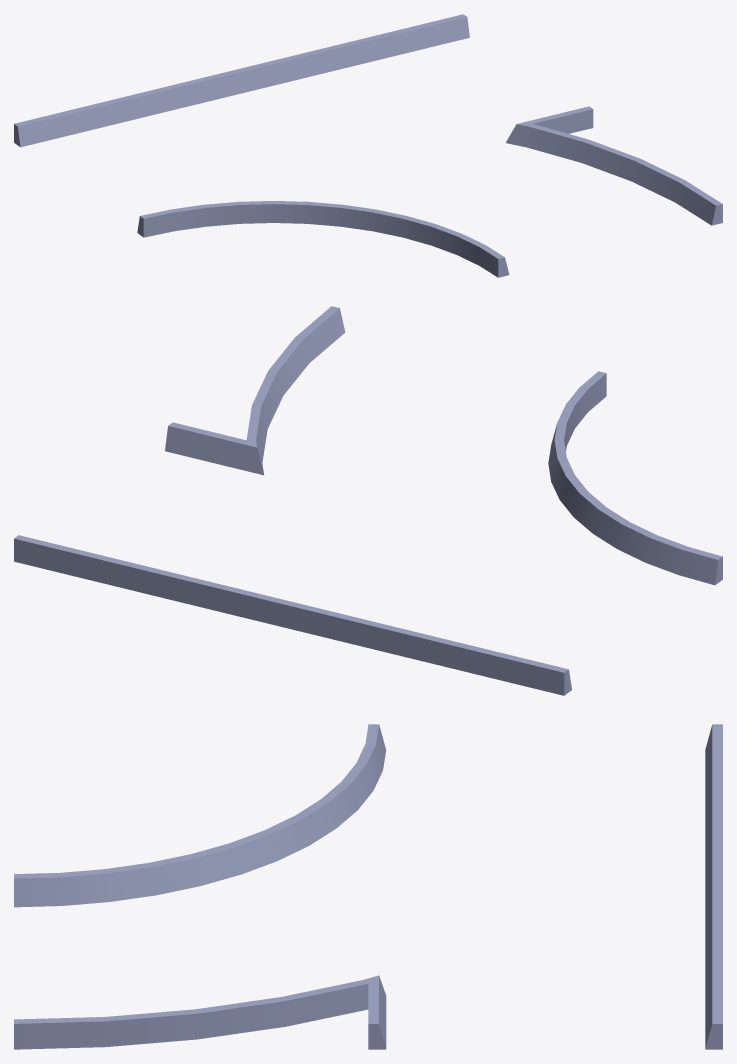
The model's file is road-curve-intersection-barrier.glb.
The picture shows the model from 3 angles, top to bottom: view 1: azimuth 30°, elevation 25°; view 2: azimuth 150°, elevation 25°; view 3: azimuth 270°, elevation 25°; orthographic projection. The views are drawn at different scales.
Visible parts, largest first — view 1: road-curve-intersection-barrier; view 2: road-curve-intersection-barrier; view 3: road-curve-intersection-barrier.
Part boxes in pixels (bbox=[...]): road-curve-intersection-barrier: bbox=[14, 14, 722, 277]; road-curve-intersection-barrier: bbox=[14, 306, 722, 695]; road-curve-intersection-barrier: bbox=[14, 724, 722, 1049].
Bounding box in the file's own units: 2 × 0.0801 × 2.
1 material, 1 textured.
